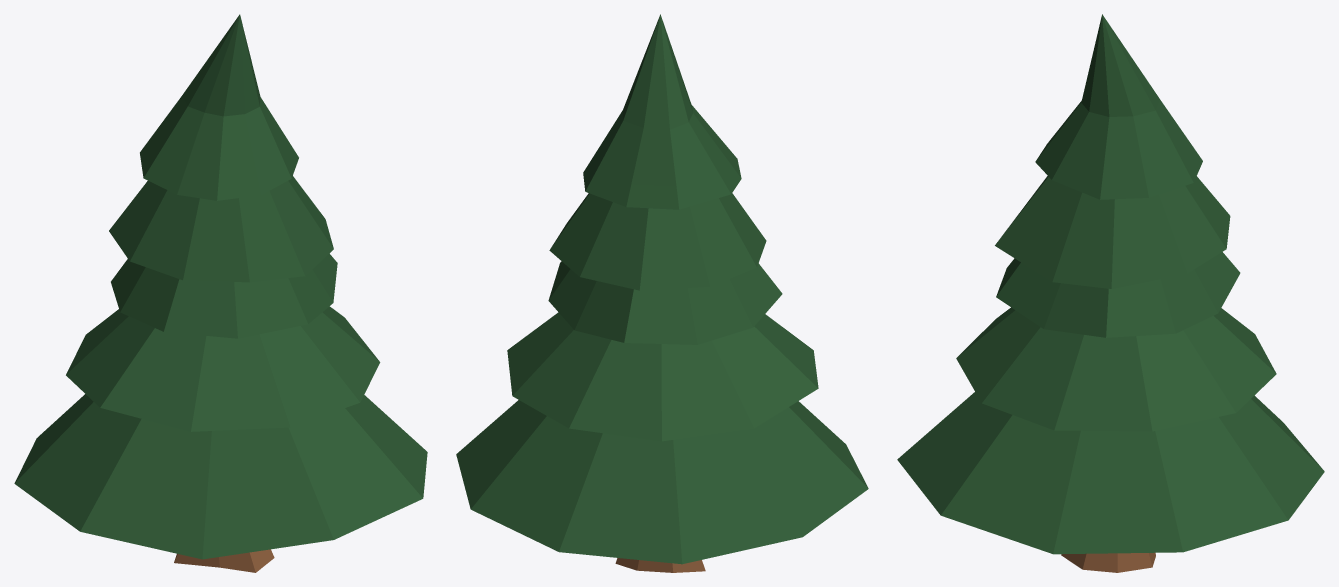
File: Tree Model.fbx
3 views of the same model, side by side, from view 1: azimuth 30°, elevation 25°; view 2: azimuth 150°, elevation 25°; view 3: azimuth 270°, elevation 25° (orthographic).
Visible parts, largest first — view 1: Tree_LOD0; view 2: Tree_LOD0; view 3: Tree_LOD0.
Part boxes in pixels (x1,y1,x2,y2): Tree_LOD0: [14, 14, 427, 572]; Tree_LOD0: [456, 14, 868, 572]; Tree_LOD0: [897, 14, 1324, 572].
Size of what is drawn, in the model's own units: 524 by 773 by 551.
